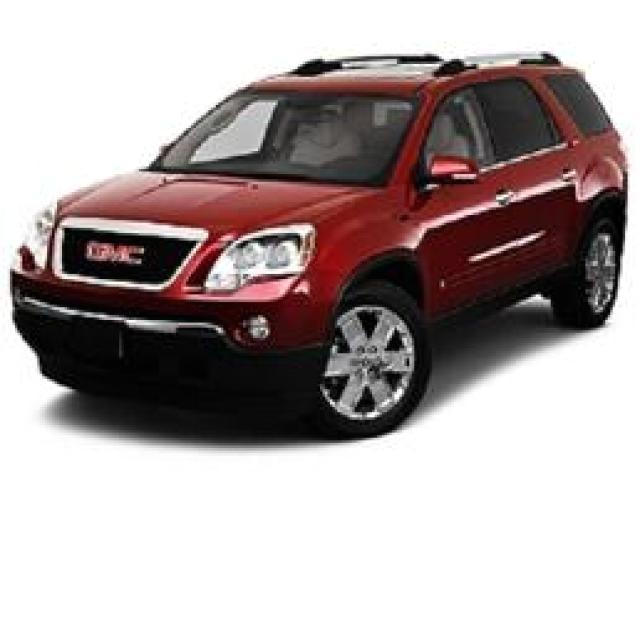Car: (41, 32, 614, 439)
